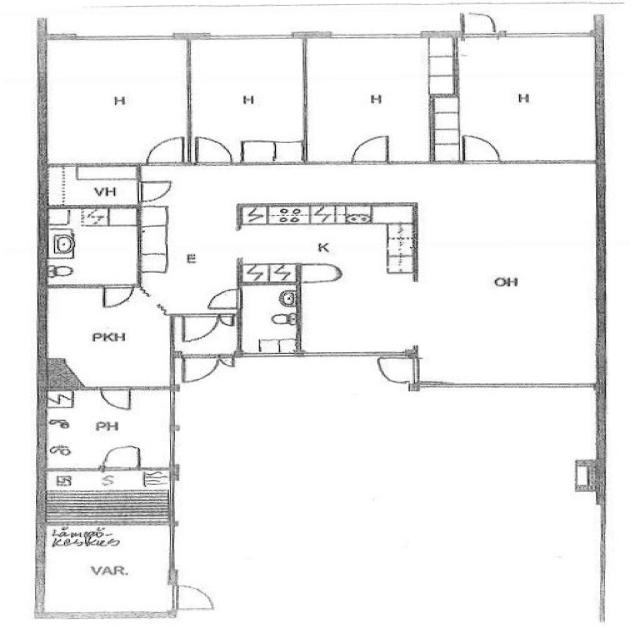door: (171, 580, 221, 614), (174, 351, 223, 385), (346, 131, 394, 165), (190, 132, 237, 166), (144, 132, 188, 168), (174, 313, 225, 344), (96, 441, 145, 472), (375, 352, 417, 388), (459, 132, 504, 164), (458, 9, 502, 41), (96, 283, 139, 312), (95, 385, 136, 414), (203, 286, 246, 313), (135, 178, 177, 205)
window: (424, 376, 594, 398), (70, 31, 178, 45), (322, 29, 424, 43), (501, 28, 594, 42), (163, 520, 185, 574), (202, 32, 293, 44), (67, 610, 158, 622), (300, 348, 374, 362)
zone: (412, 168, 600, 396), (304, 34, 455, 164), (446, 36, 598, 164), (39, 38, 192, 165), (295, 210, 418, 360), (187, 36, 308, 164), (37, 515, 174, 618), (38, 288, 173, 389), (40, 387, 176, 471), (40, 206, 140, 288), (40, 164, 142, 208), (241, 280, 299, 354)
